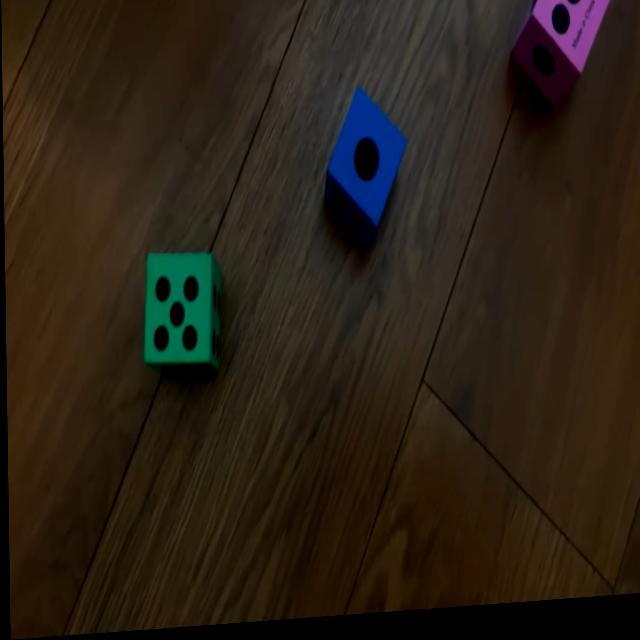blue_block: (324, 89, 406, 251)
